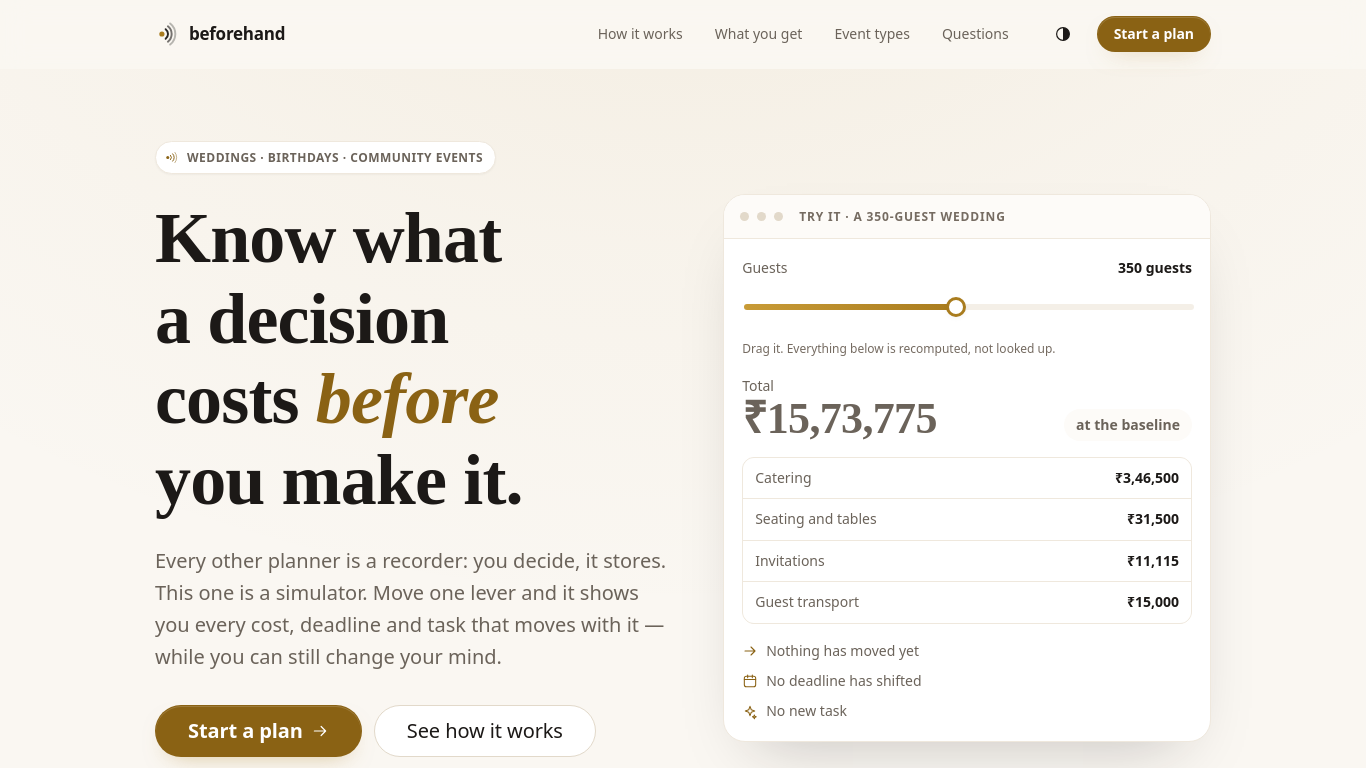
Test: the live demo in the hero › recomputes the real model when the lever moves
Set the slider labelled "Guests" to "430": {"x": 1064, "y": 307} top-left (744, 290), bottom-right (1194, 324)
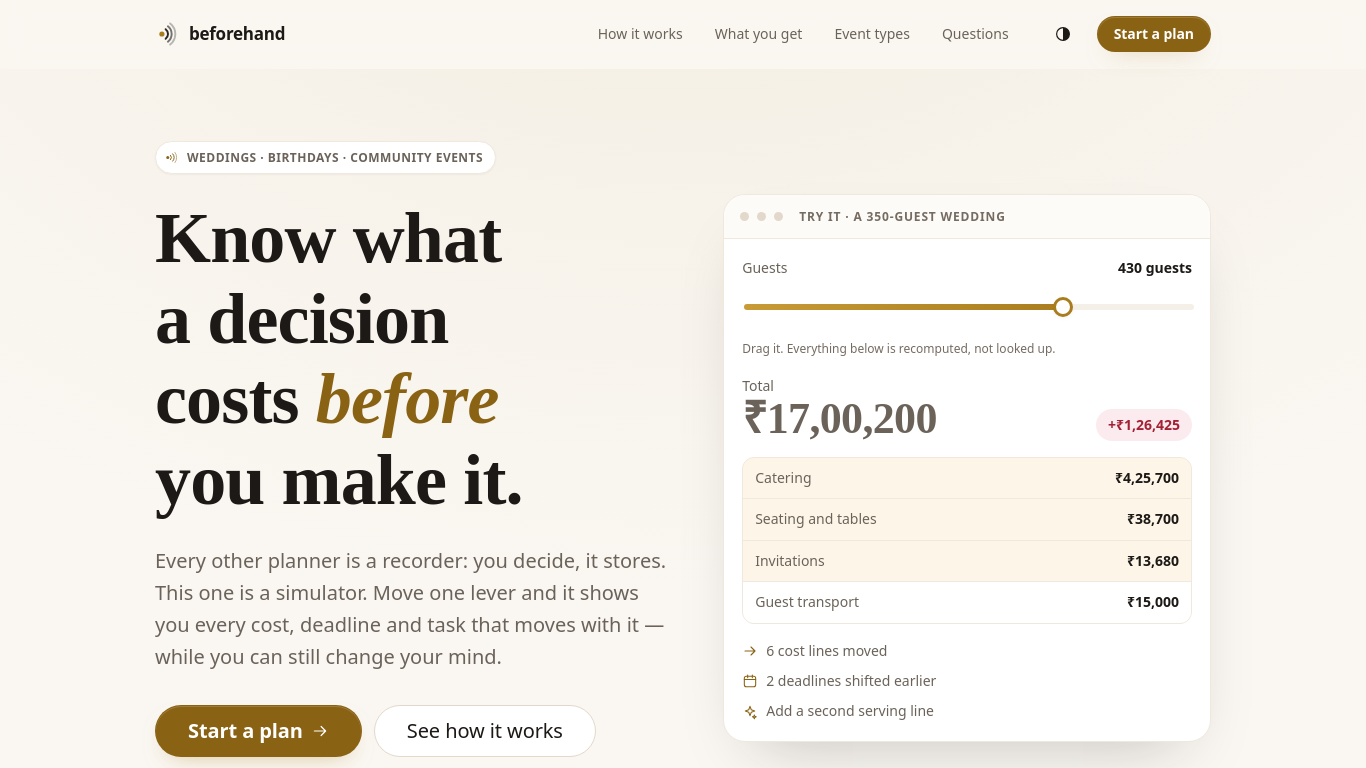
Expected: the text "+₹1,26,425" is shown, top-left (1096, 409), bottom-right (1192, 441)
Expected: the text "6 cost lines moved" is shown, top-left (742, 641), bottom-right (888, 660)
Expected: the text "2 deadlines shifted earlier" is shown, top-left (742, 671), bottom-right (936, 690)
